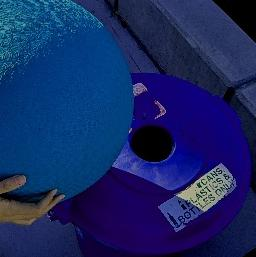algae: (0, 0, 125, 202)
